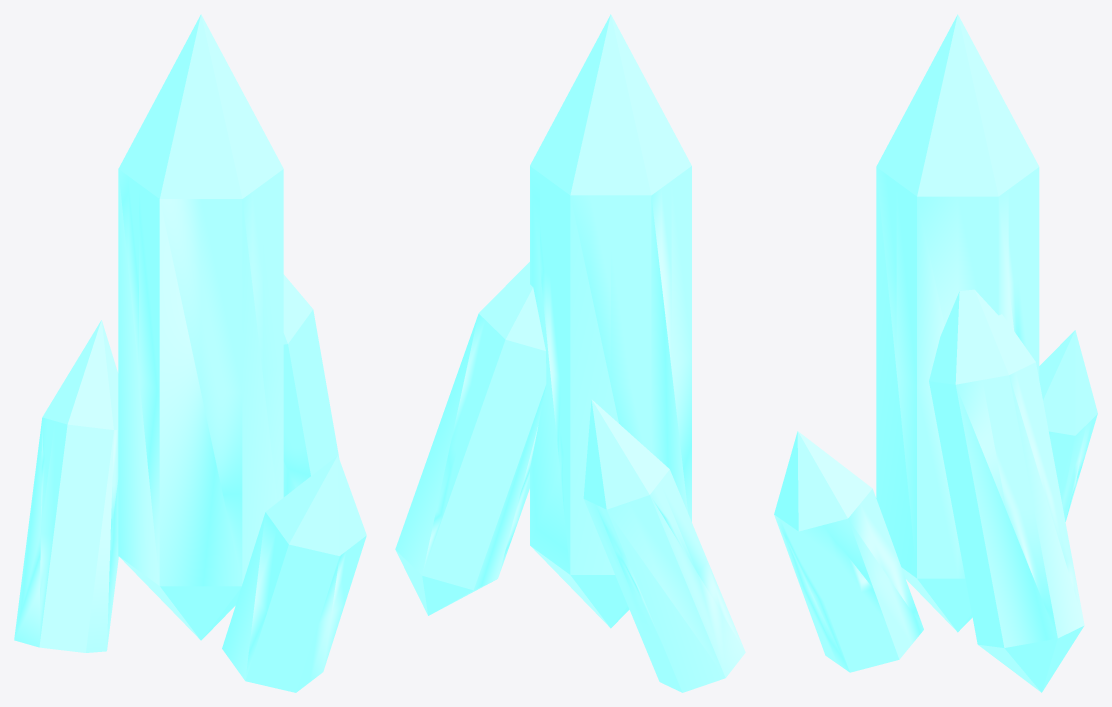
Rendered from crystal.glb.
3 views of the same model, side by side, from view 1: azimuth 30°, elevation 25°; view 2: azimuth 150°, elevation 25°; view 3: azimuth 270°, elevation 25° (orthographic).
Parts seen in each view (by area): view 1: Crystal0Shaft; view 2: Crystal0Shaft; view 3: Crystal0Shaft.
Part boxes in pixels (left/top/right/bottom): Crystal0Shaft: left=14, top=14, right=366, bottom=692; Crystal0Shaft: left=395, top=14, right=745, bottom=692; Crystal0Shaft: left=774, top=14, right=1097, bottom=692.
Size of the model in its own units: 1.36 by 2.55 by 1.19.
